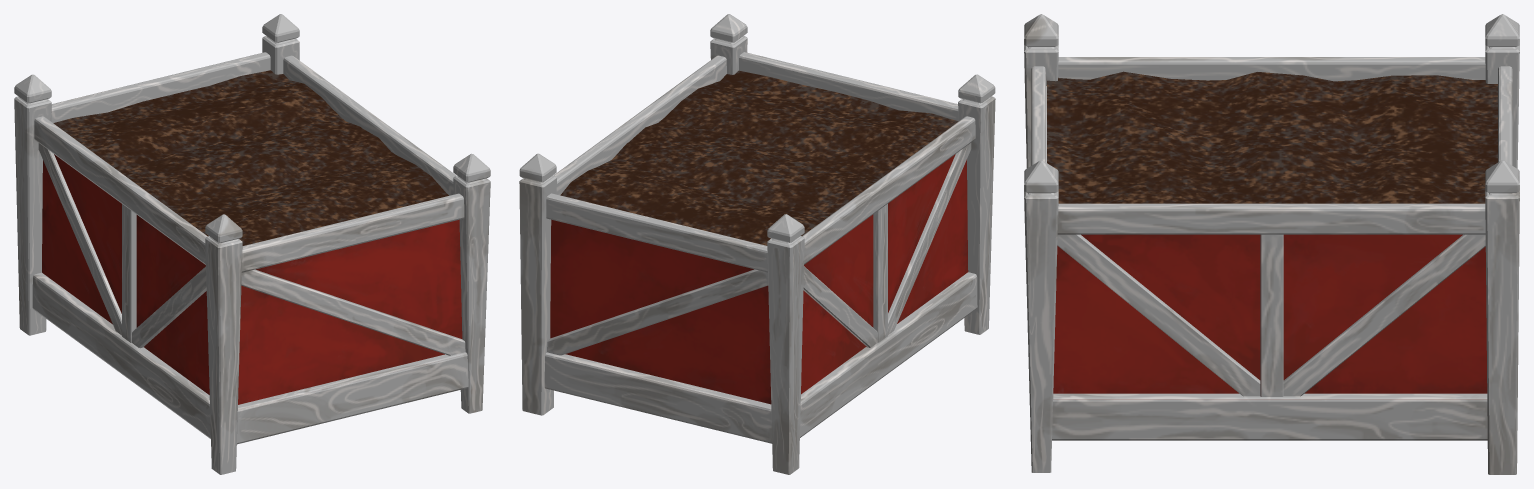
File: GardenBox00.fbx
3 views of the same model, side by side, from view 1: azimuth 30°, elevation 25°; view 2: azimuth 150°, elevation 25°; view 3: azimuth 270°, elevation 25° (orthographic). The views are drawn at different scales.
Parts seen in each view (by area): view 1: GardenBox00; view 2: GardenBox00; view 3: GardenBox00.
Boxes of the visible parts, x1,y1,x2,y2 form: GardenBox00: (14, 14, 490, 474); GardenBox00: (519, 14, 995, 474); GardenBox00: (1024, 14, 1519, 474).
Bounding box in the file's own units: 165 × 147 × 215.
